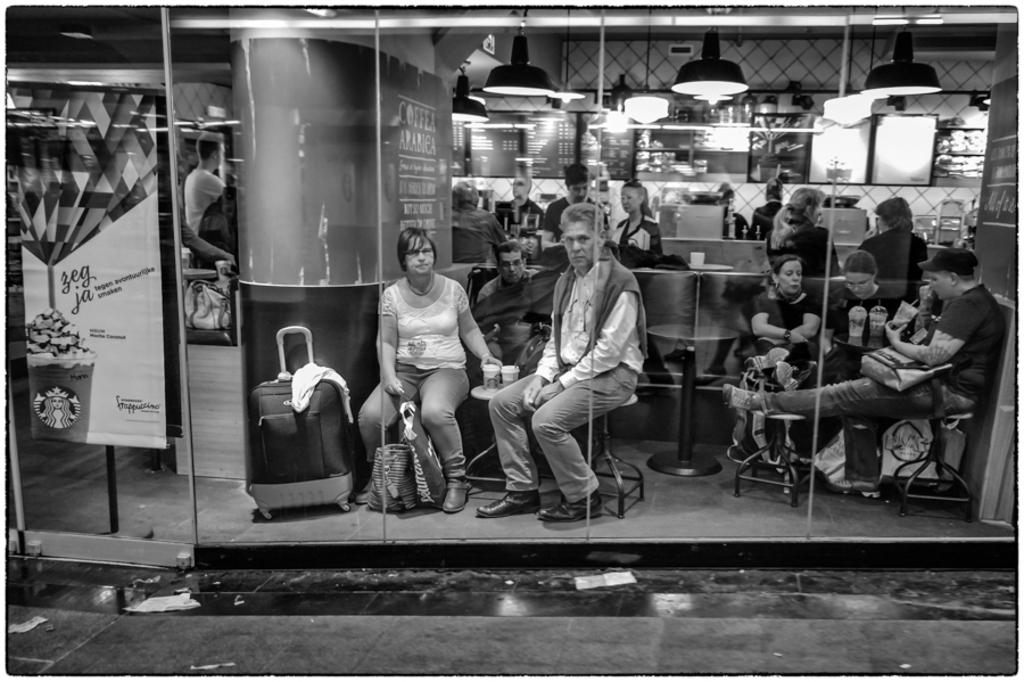Luggage-and-bags: (245, 328, 366, 519), (728, 346, 796, 471), (858, 335, 957, 394), (400, 397, 444, 515), (361, 439, 421, 515), (182, 277, 230, 332), (517, 330, 551, 376), (763, 340, 812, 368)
